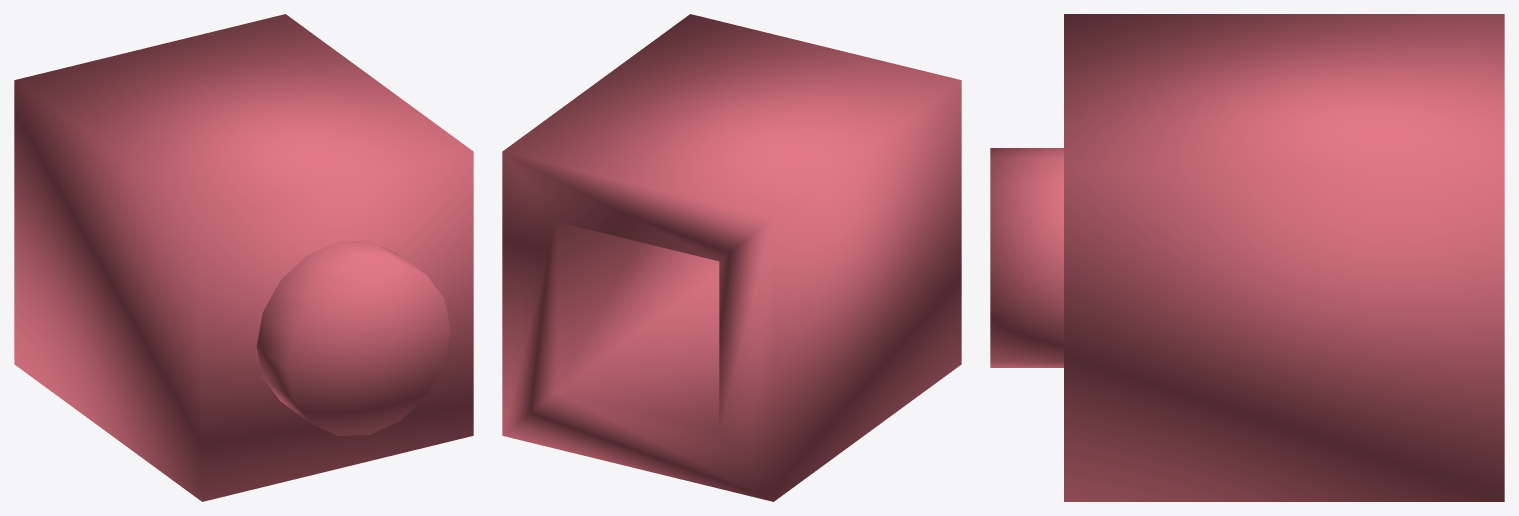
The picture shows the model from 3 angles, left to right: view 1: azimuth 30°, elevation 25°; view 2: azimuth 150°, elevation 25°; view 3: azimuth 270°, elevation 25°; orthographic projection. The views are drawn at different scales.
Size of the model in its own units: 8 by 8 by 11.2.
